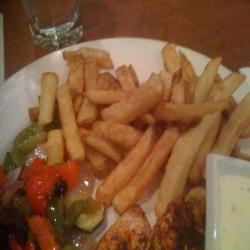fries: (38, 44, 246, 194)
